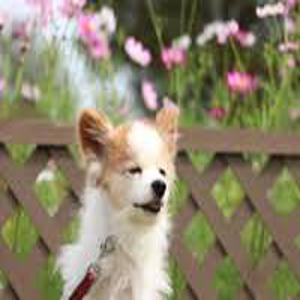yell: (62, 98, 178, 300)
